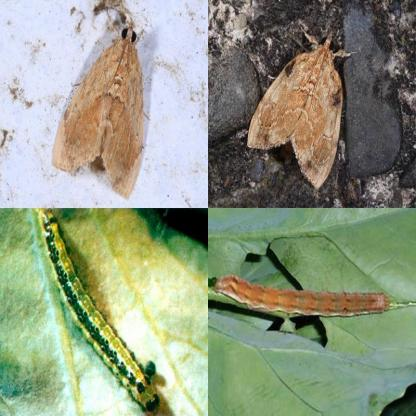armyworm: (30, 211, 170, 416), (51, 24, 160, 193), (251, 35, 347, 186), (211, 266, 391, 328)
